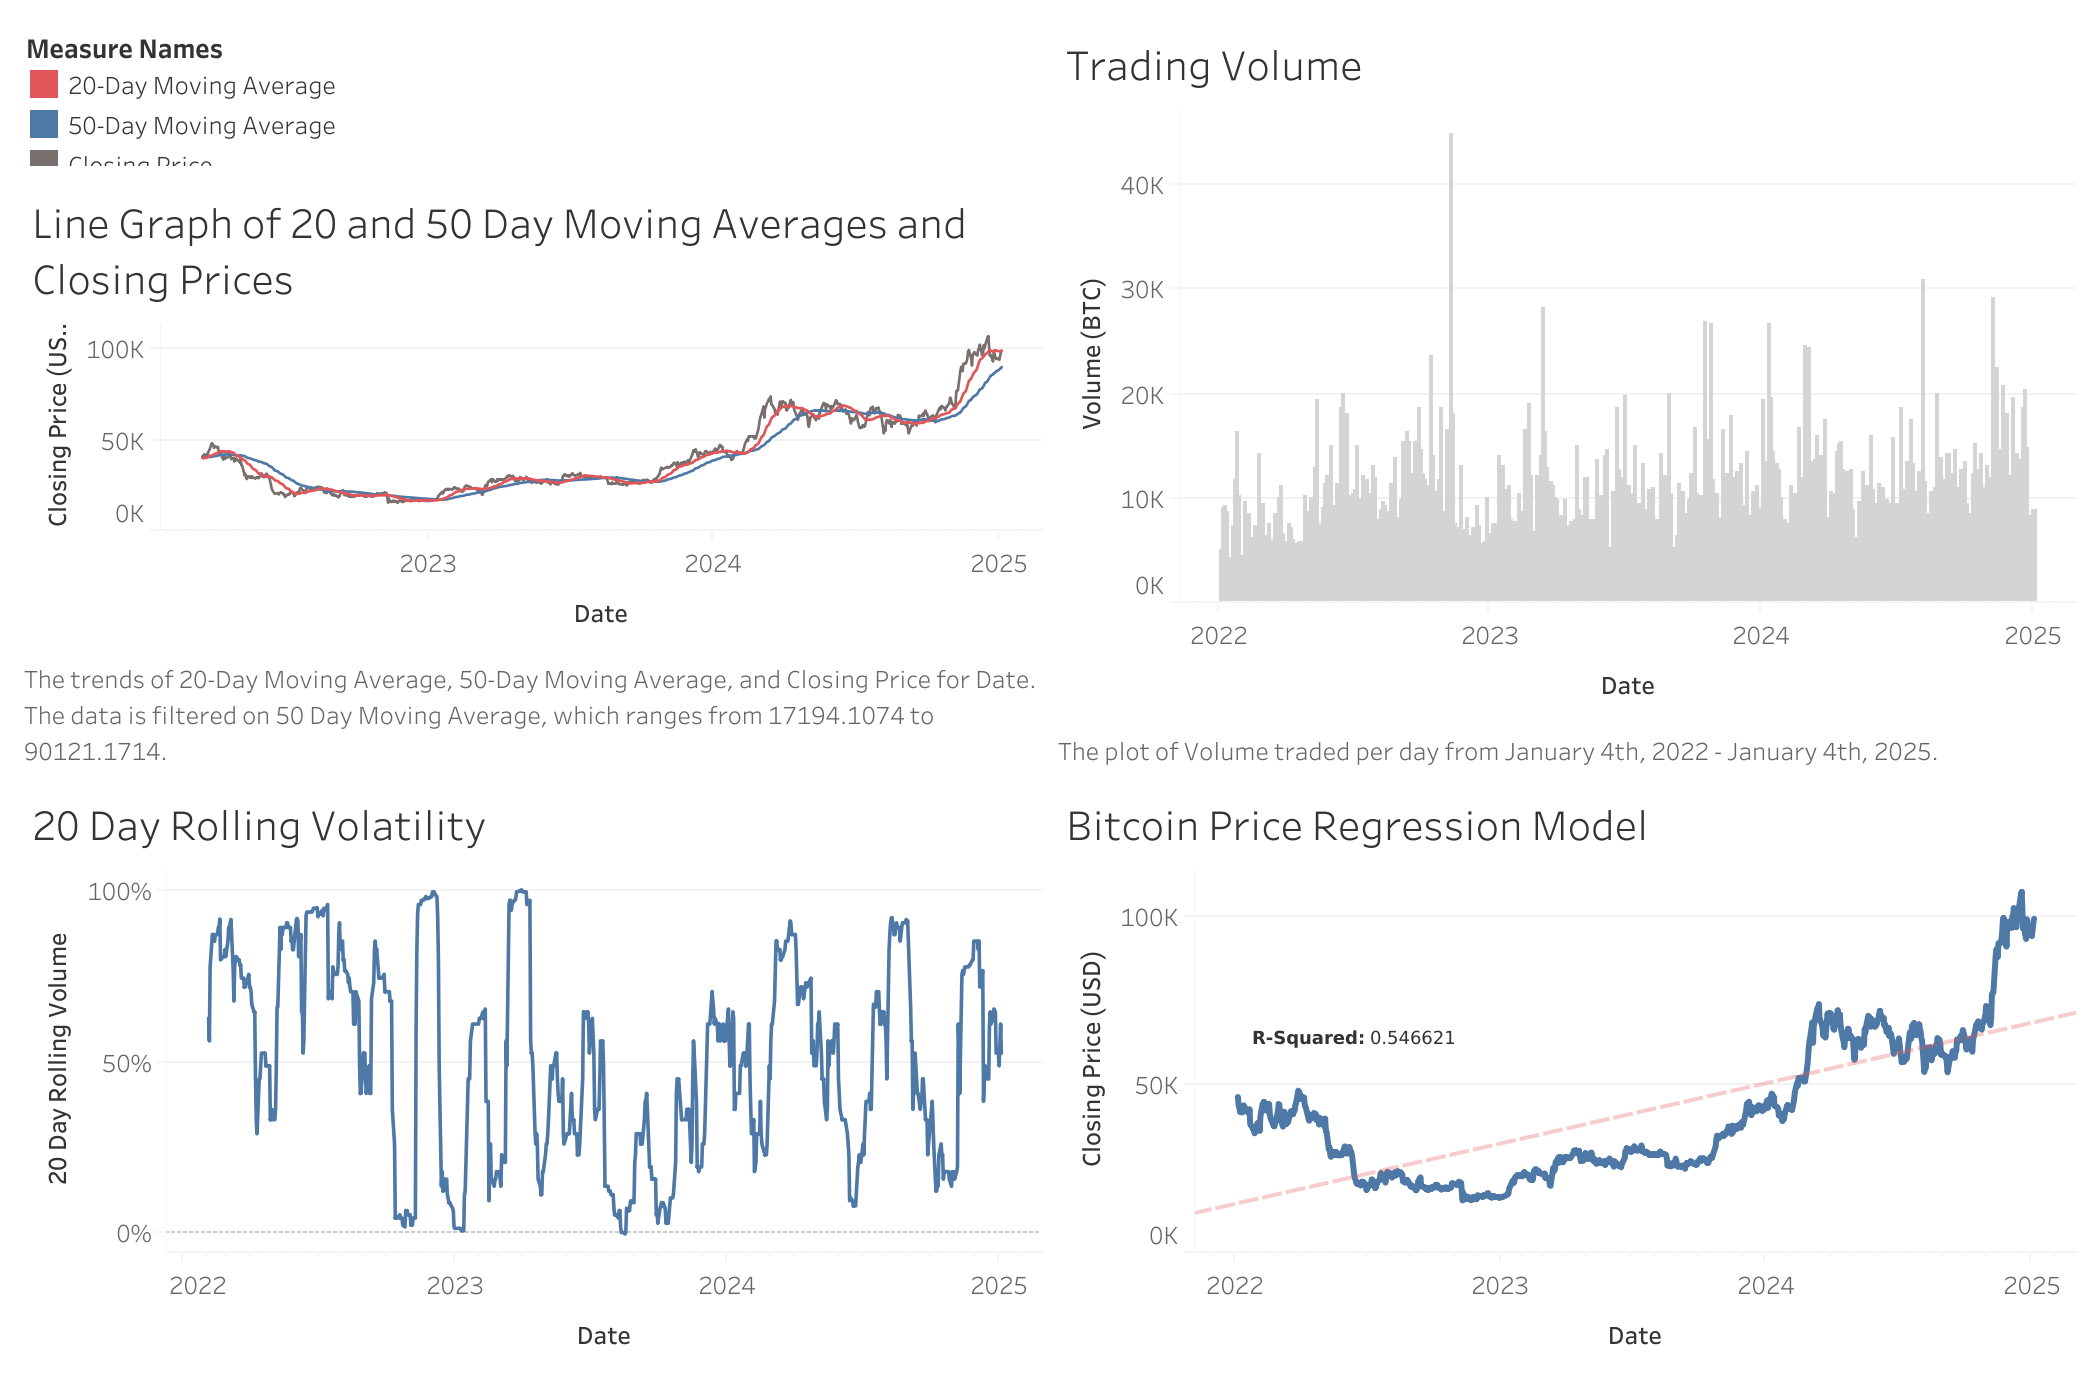

Layout of this report page (visuals, bound fields, positions):
{"tool":"tableau","page":{"name":"Dashboard 1","canvas":[1000,1000],"units":"permille","ordinal":0},"visuals":[{"type":"legend","title":"Sheet 1","param":"[federated.12ifel60dc65zg1dyll2803ltt7k].[:Measure Names]","box":[7.6,10.4,492.4,114.4]},{"type":"worksheet","title":"Sheet 2","mark":"Bar","rows":["Volume"],"cols":["Date"],"box":[500,10.4,492.4,547.4]},{"type":"worksheet","title":"Sheet 1","mark":"Line","cols":["Date"],"box":[7.6,124.8,492.4,433.8]},{"type":"worksheet","title":"Sheet 4","mark":"Automatic","rows":["Close"],"cols":["Date"],"box":[500,557.8,492.4,431.8]},{"type":"worksheet","title":"Sheet 3","mark":"Automatic","rows":["Rolling_Vol"],"cols":["Date"],"box":[7.6,558.6,492.4,431]}]}

Visuals, with their boxes on the dashboard's canvas, which has no fixed pixel size, in thousandths of its width and height (x1, y1, x2, y2). These are canvas units, not pixel positions in the 2098x1388 screenshot, which may show the page scaled, cropped or inside an application window:
"Sheet 1" legend: BBox(8, 10, 500, 125)
"Sheet 2" worksheet (Bar marks): BBox(500, 10, 992, 558)
"Sheet 1" worksheet (Line marks): BBox(8, 125, 500, 559)
"Sheet 4" worksheet: BBox(500, 558, 992, 990)
"Sheet 3" worksheet: BBox(8, 559, 500, 990)
